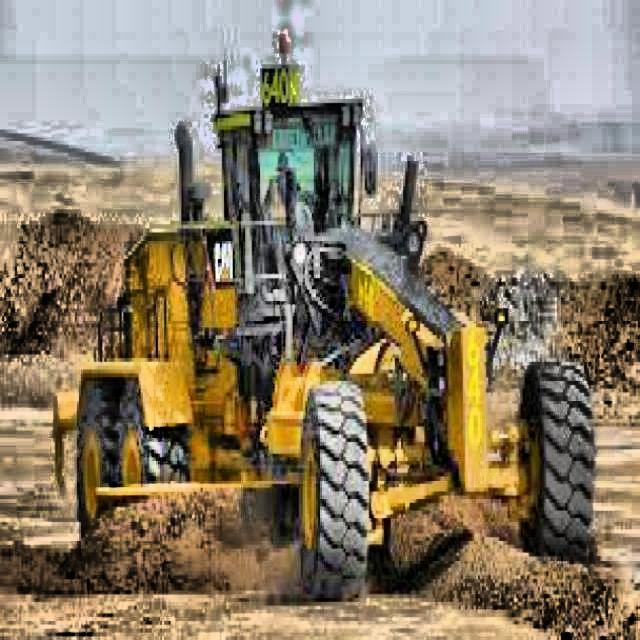bull_dozer/loader/grader: (50, 28, 597, 604)
person: (262, 153, 302, 219)
